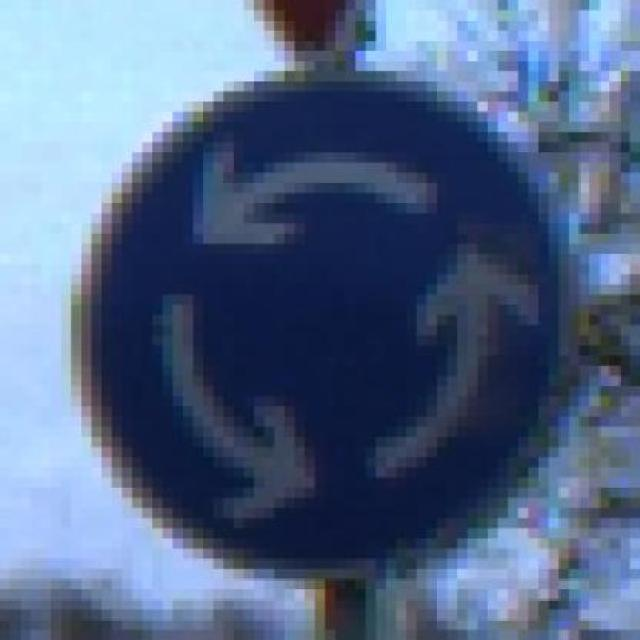Round-About: (61, 61, 579, 579)
